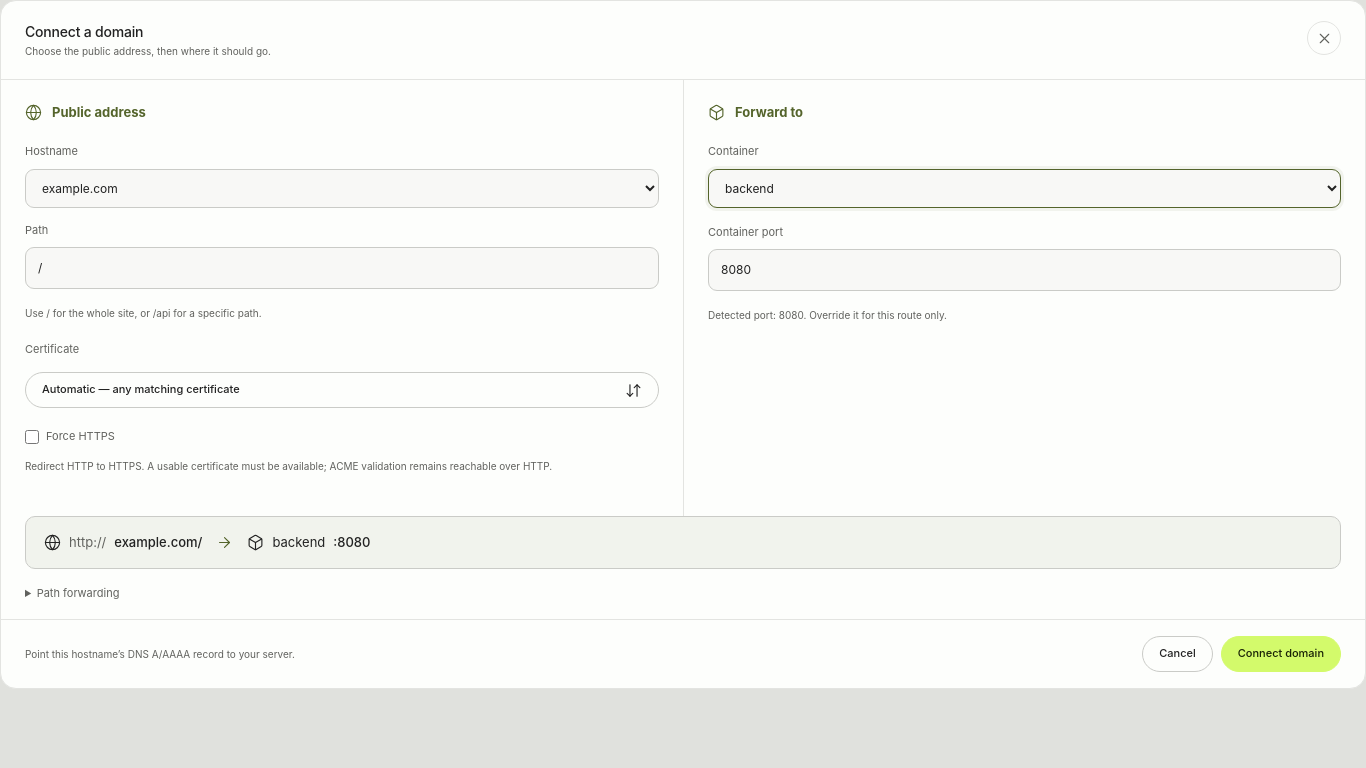
Scenario: domain routing editor › updates the destination port when choosing a container and saves a custom port and wildcard path
This screenshot has width=1366, height=768.
Earlier steps of the test are not shown.
Later steps or results of the test are not shown.
Replace the text in the number field labelled "Container port" with "9000". click: (1024,270)
box: [708,249,1341,291]
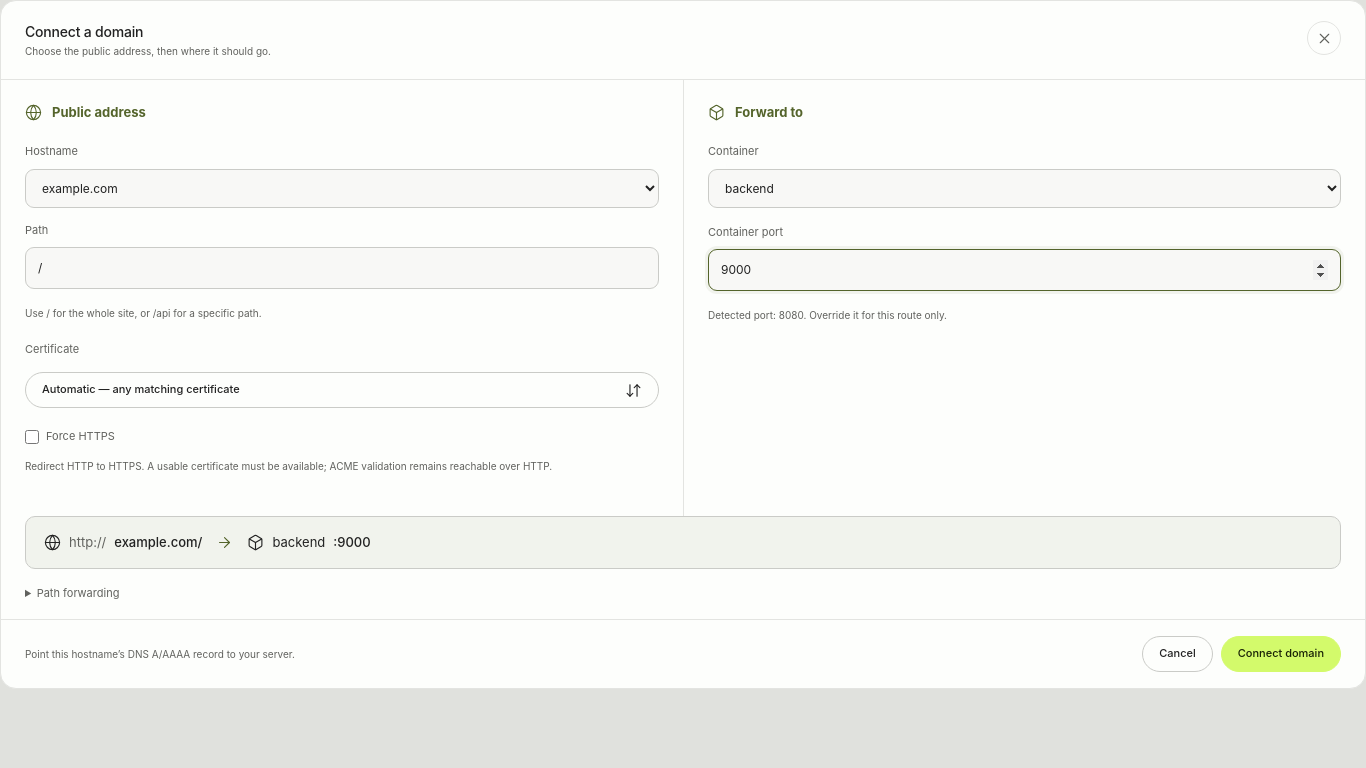
Select "*.example.com" in the dropdown named "Domain". click: (342,188)
box: [25,169,659,208]
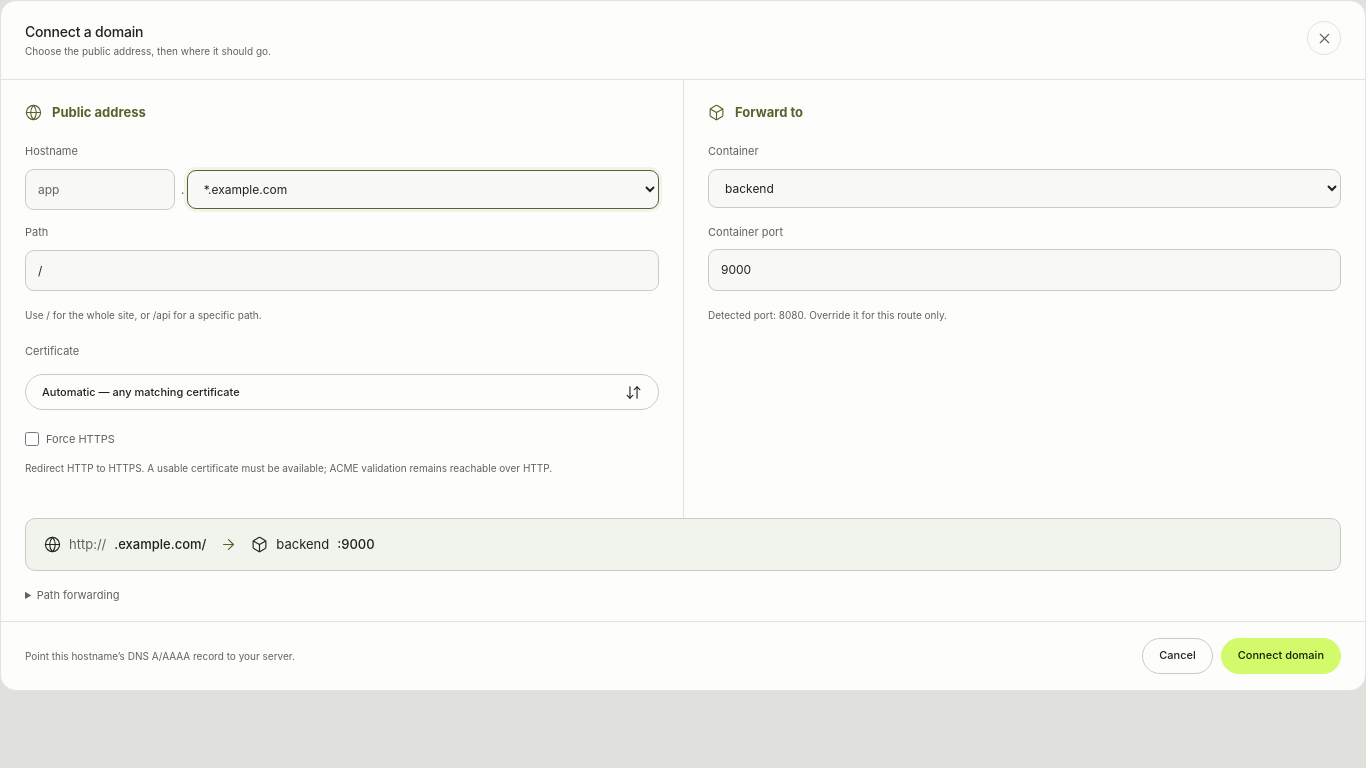
Type "service" into the field named "Subdomain". click: (100,189)
box: [25,169,175,210]
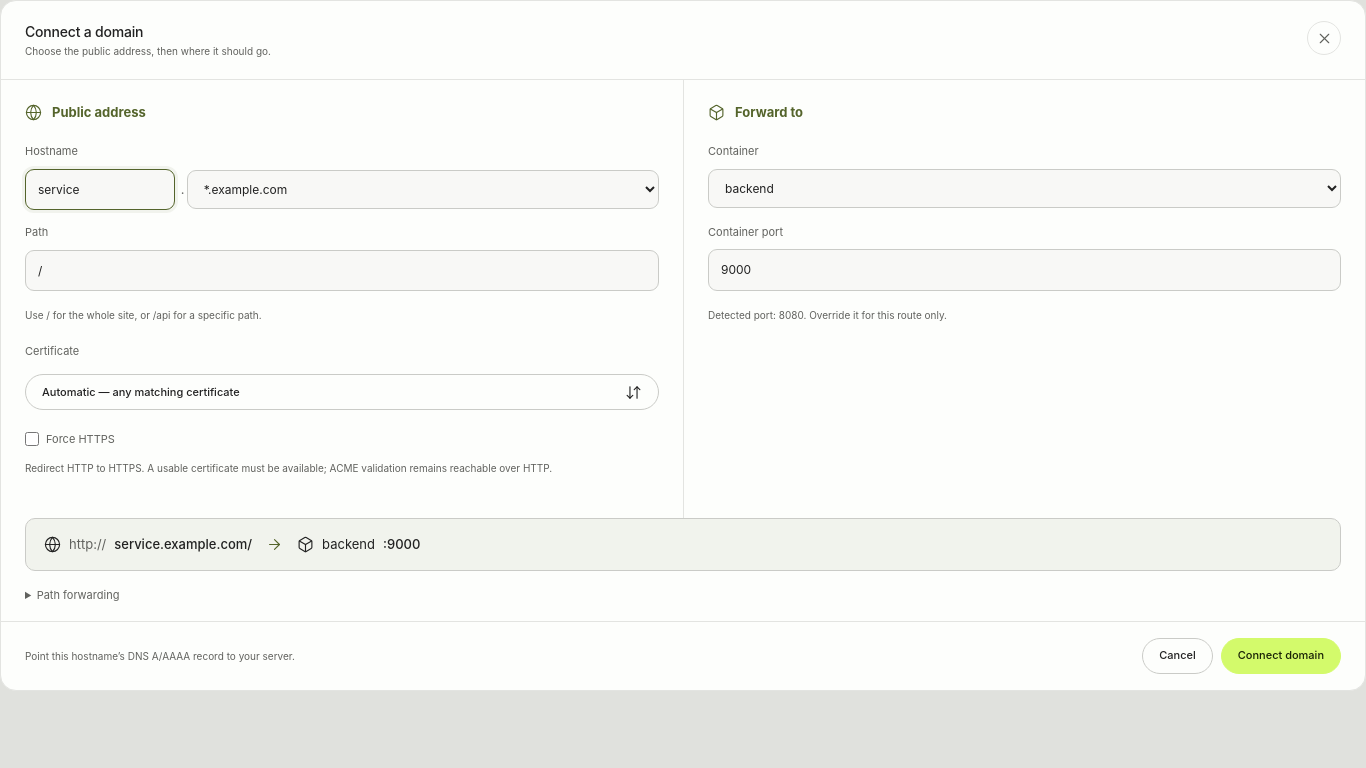
Type "api" into the field labelled "Path". click: (342,270)
box: [25,250,659,291]
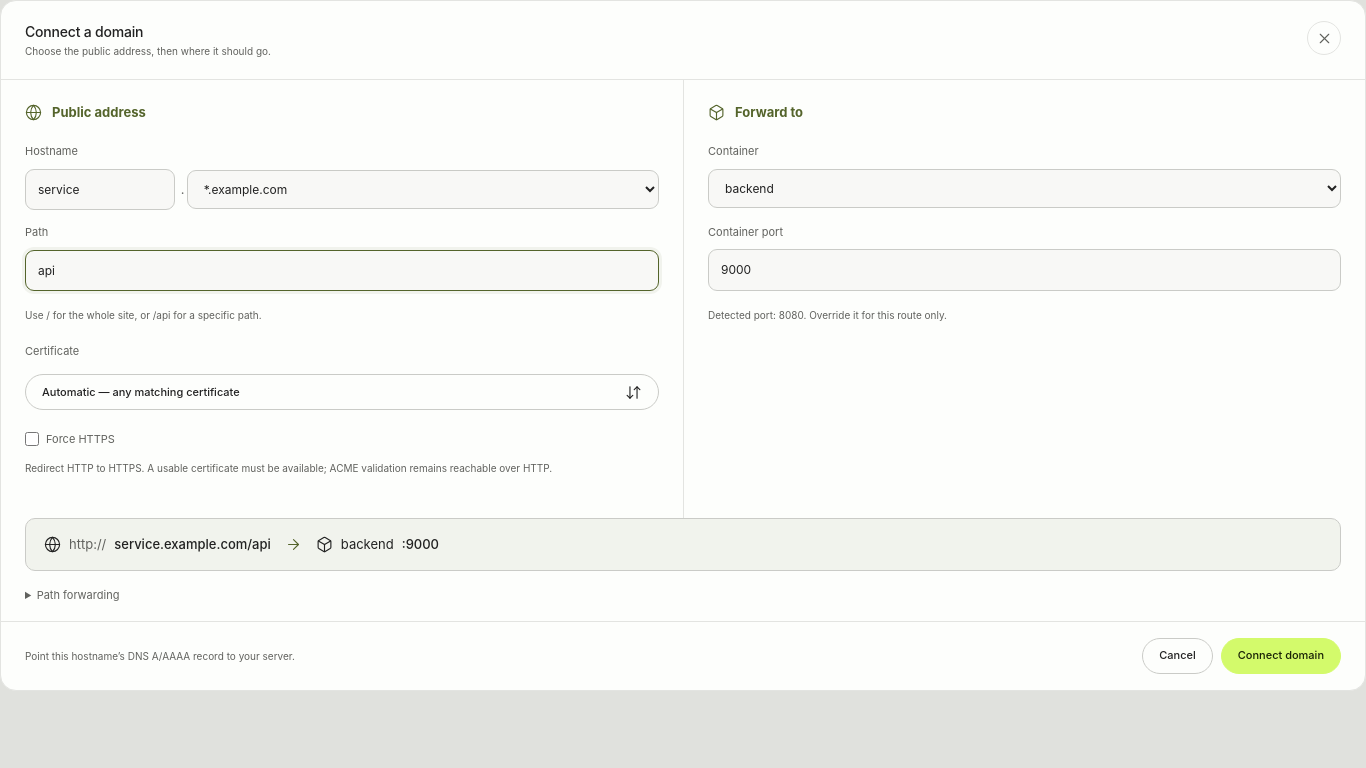
Click the heading "Path forwarding". click: (78,595)
box: [37,588,119,602]
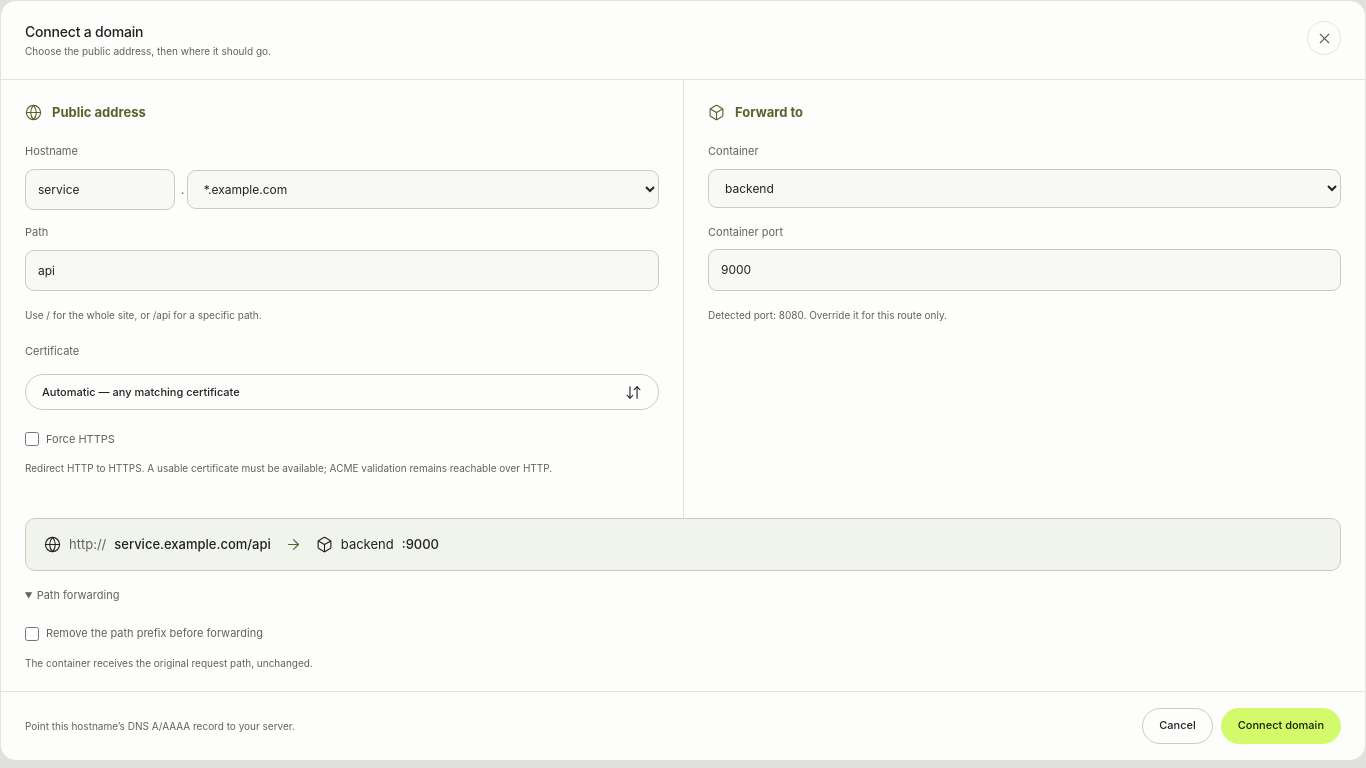
Click the checkbox labelled "Remove the path prefix before forwarding". click: (32,634)
box: [25,627,39,641]
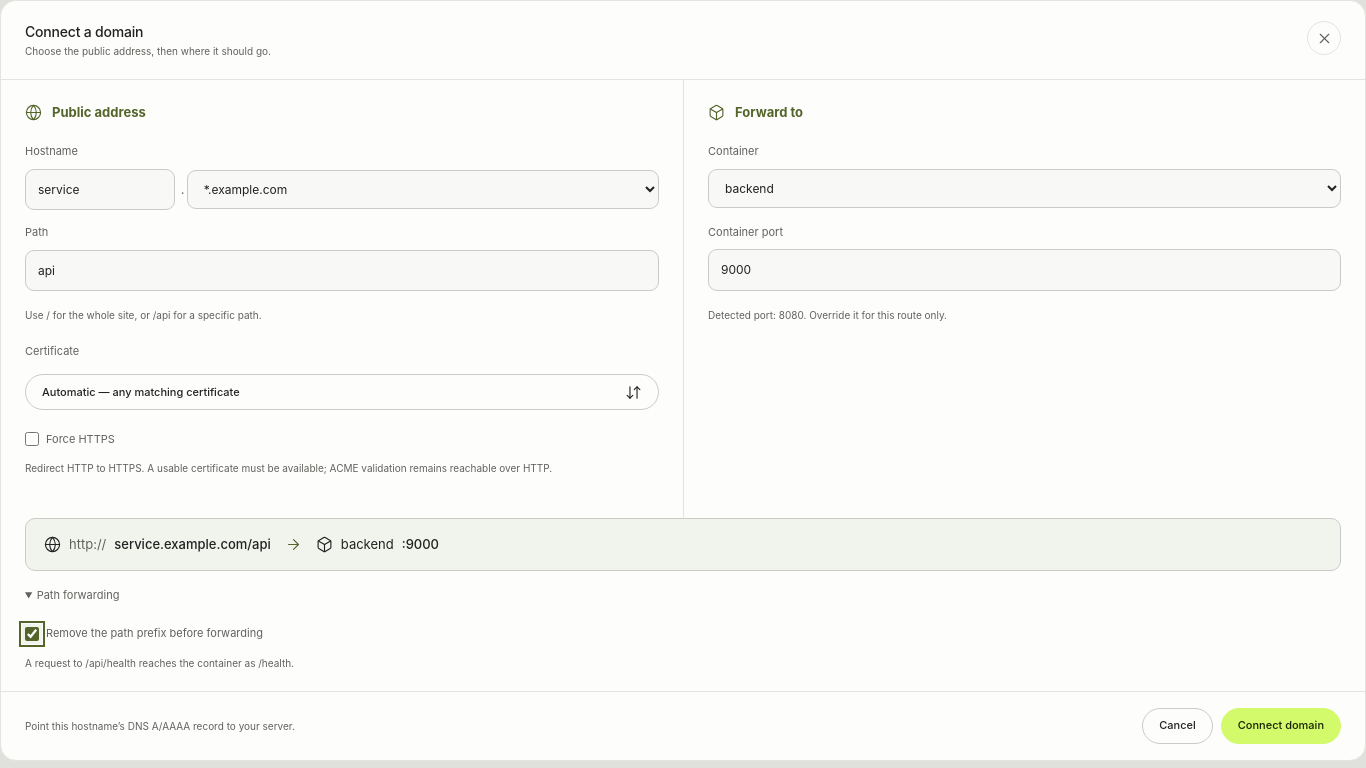
Expected: the text "service.example.com/api" is shown, [114,534,271,555]
